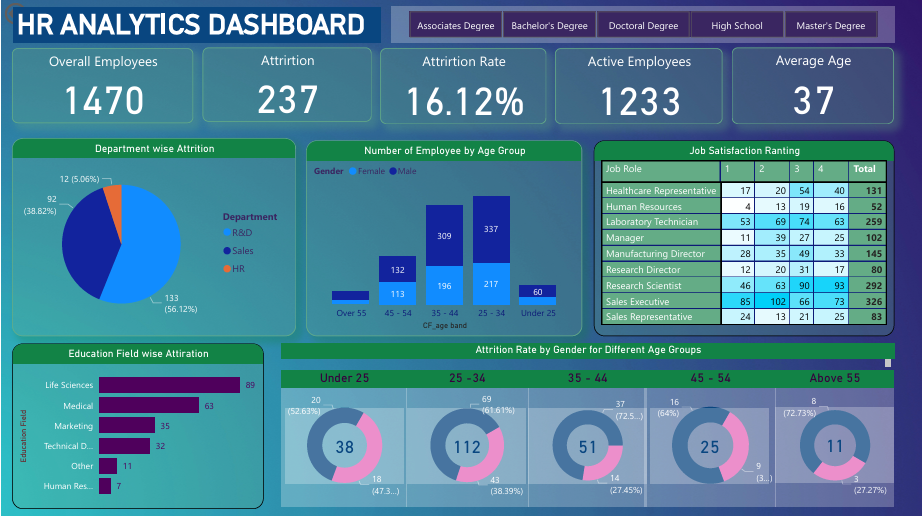

The dashboard page shown, as its layout file describes it:
{"tool":"powerbi","page":{"name":"Page 1","canvas":[1280,720],"ordinal":0},"visuals":[{"type":"card","title":"Overall Employees","fields":{"Values":["Sum(Table_1.Employee Count)"]},"box":[15,68.3,251.7,103.3],"z":0},{"type":"card","title":"Attrirtion","fields":{"Values":["Sum(Table_1.Attiration Count)"]},"box":[280,66.7,235,103.3],"z":1000},{"type":"card","title":"Attrirtion Rate","fields":{"Values":["Table_1.Attrition Rate"]},"box":[526.7,68.3,231.7,105],"z":2000},{"type":"card","title":"Active Employees","fields":{"Values":["Table_1.MeasureActive Employees"]},"box":[770,68.3,233.3,105],"z":3000},{"type":"actionButton","box":[0,0,100,40],"z":4000},{"type":"card","title":"Average Age","fields":{"Values":["Avg(Table_1.Age)"]},"box":[1016.5,66.5,225,106.7],"z":5000},{"type":"pieChart","title":"Department wise Attrition","fields":{"Category":["Table_1.Department"],"Y":["Sum(Table_1.Attiration Count)"]},"box":[15,193.3,395,275],"z":6000},{"type":"columnChart","title":"Number of Employee by Age Group","fields":{"Category":["Table_1.CF_age band"],"Y":["Sum(Table_1.Employee Count)"],"Series":["Table_1.Gender"]},"box":[424,196,384,272],"z":7000},{"type":"pivotTable","title":"Job Satisfaction Ranting","fields":{"Rows":["Table_1.Job Role"],"Columns":["Table_1.Job Satisfaction"],"Values":["Sum(Table_1.Employee Count)"]},"box":[824,196,418,272],"z":8000},{"type":"barChart","title":"Education Field wise Attiration","fields":{"Category":["Table_1.Education Field"],"Y":["Sum(Table_1.Attiration Count)"]},"box":[15,478.3,350,230],"z":9000},{"type":"donutChart","title":"Under 25","fields":{"Category":["Table_1.Gender"],"Y":["Sum(Table_1.Attiration Count)"],"Series":["Table_1.CF_age band"]},"box":[390,515,175,190],"z":10000},{"type":"textbox","title":"Attrition Rate by Gender for Different Age Groups","box":[390,477.5,852.5,37.5],"z":11000},{"type":"donutChart","title":"25 -34","fields":{"Category":["Table_1.Gender"],"Y":["Sum(Table_1.Attiration Count)"],"Series":["Table_1.CF_age band"]},"box":[562.5,515,170,190],"z":12000},{"type":"donutChart","title":"35 - 44","fields":{"Category":["Table_1.Gender"],"Y":["Sum(Table_1.Attiration Count)"],"Series":["Table_1.CF_age band"]},"box":[732.5,515,165,190],"z":13000},{"type":"donutChart","title":"45 - 54","fields":{"Category":["Table_1.Gender"],"Y":["Sum(Table_1.Attiration Count)"],"Series":["Table_1.CF_age band"]},"box":[895,515,182.5,190],"z":14000},{"type":"donutChart","title":"Above 55","fields":{"Category":["Table_1.Gender"],"Y":["Sum(Table_1.Attiration Count)"],"Series":["Table_1.CF_age band"]},"box":[1076.7,515,165,190],"z":15000},{"type":"card","fields":{"Values":["Sum(Table_1.Attiration Count)"]},"box":[395,568.3,165,105],"z":16000},{"type":"card","fields":{"Values":["Sum(Table_1.Attiration Count)"]},"box":[565,568.3,165,105],"z":17000},{"type":"card","fields":{"Values":["Sum(Table_1.Attiration Count)"]},"box":[733.3,568.3,165,105],"z":18000},{"type":"card","fields":{"Values":["Sum(Table_1.Attiration Count)"]},"box":[903.3,568.3,165,105],"z":19000},{"type":"card","fields":{"Values":["Sum(Table_1.Attiration Count)"]},"box":[1076.7,566.7,165,105],"z":20000},{"type":"textbox","title":"HR ANALYTICS DASHBOARD","box":[16.7,11.7,511.7,48.3],"z":20001},{"type":"slicer","fields":{"Values":["Table_1.Education"]},"box":[541.7,10,700,50],"z":20002}]}

Visuals, with their boxes in screenshot pixels (x1, y1, x2, y2), scaled from the page's 1280x720 canvas onto the 922x516 screenshot:
"Overall Employees" card: rect(11, 49, 192, 123)
"Attrirtion" card: rect(202, 48, 371, 122)
"Attrirtion Rate" card: rect(379, 49, 546, 124)
"Active Employees" card: rect(555, 49, 723, 124)
actionButton: rect(0, 0, 72, 29)
"Average Age" card: rect(732, 48, 894, 124)
"Department wise Attrition" pieChart: rect(11, 139, 295, 336)
"Number of Employee by Age Group" columnChart: rect(305, 140, 582, 335)
"Job Satisfaction Ranting" pivotTable: rect(594, 140, 895, 335)
"Education Field wise Attiration" barChart: rect(11, 343, 263, 508)
"Under 25" donutChart: rect(281, 369, 407, 505)
"Attrition Rate by Gender for Different Age Groups" textbox: rect(281, 342, 895, 369)
"25 -34" donutChart: rect(405, 369, 528, 505)
"35 - 44" donutChart: rect(528, 369, 646, 505)
"45 - 54" donutChart: rect(645, 369, 776, 505)
"Above 55" donutChart: rect(776, 369, 894, 505)
card - Sum(Table_1.Attiration Count): rect(285, 407, 403, 483)
card - Sum(Table_1.Attiration Count): rect(407, 407, 526, 483)
card - Sum(Table_1.Attiration Count): rect(528, 407, 647, 483)
card - Sum(Table_1.Attiration Count): rect(651, 407, 770, 483)
card - Sum(Table_1.Attiration Count): rect(776, 406, 894, 481)
"HR ANALYTICS DASHBOARD" textbox: rect(12, 8, 381, 43)
slicer - Table_1.Education: rect(390, 7, 894, 43)
